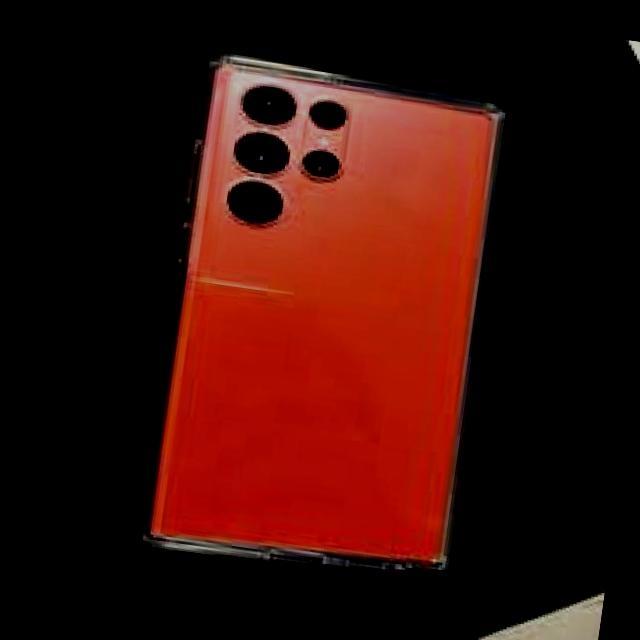lens_back: (211, 174, 300, 238), (221, 122, 306, 184), (234, 65, 310, 132), (298, 142, 352, 194), (309, 84, 363, 131)
phone: (136, 48, 520, 598)
